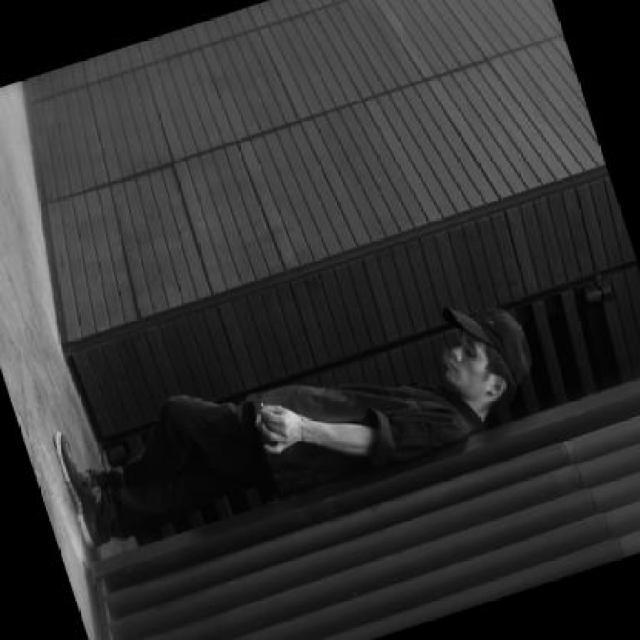smoke: (244, 402, 270, 432)
